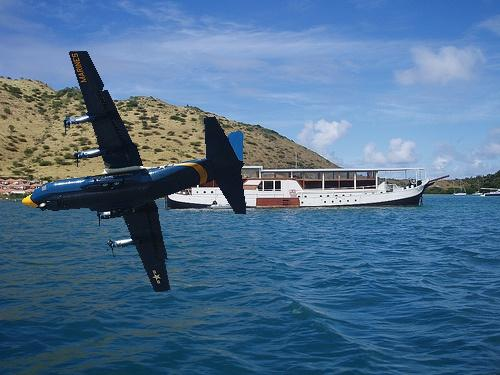tampered: (23, 52, 246, 292)
